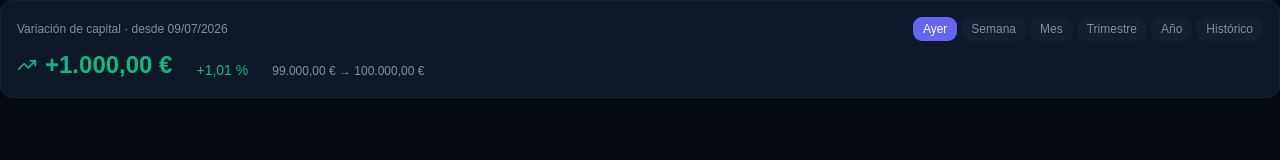
it: CapitalDelta › Semana uses closest point at or before cutoff
This screenshot has width=1280, height=160.
Click the button "Semana" at x=994, y=29, box [961,17,1026,41]
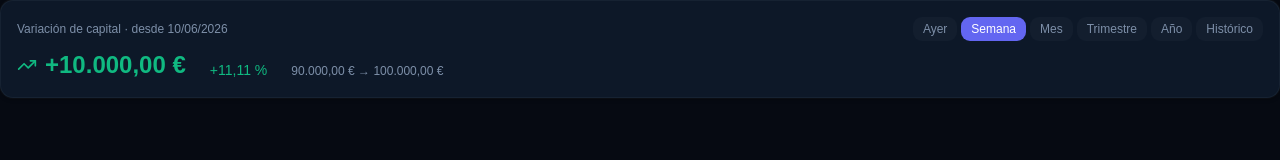
Result: the text "+10.000,00 €" is shown at [17,49,186,81]
Result: the text "Variación de capital · desde 10/06/2026" is shown at [17,21,228,37]
